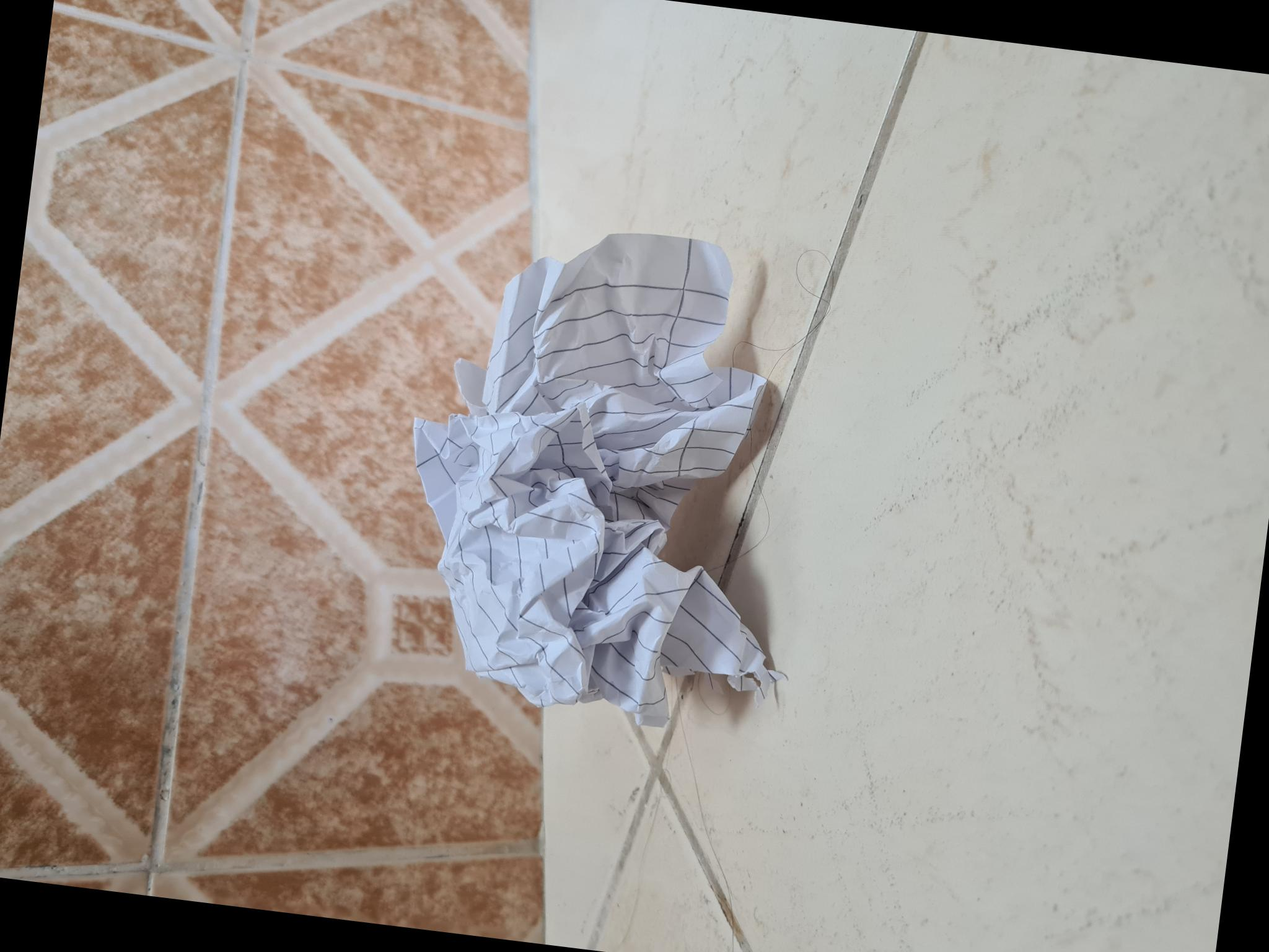Kertas: (209, 394, 699, 744)
